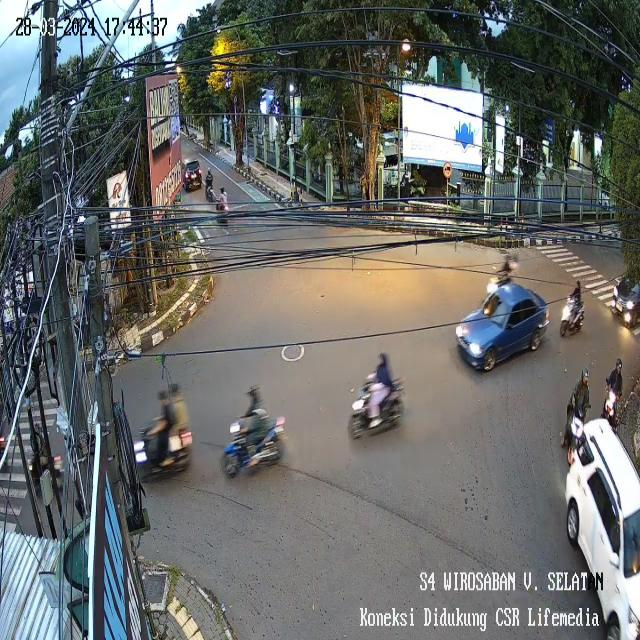car: (562, 409, 640, 639), (451, 277, 553, 385), (607, 244, 640, 343), (180, 153, 204, 199)
motorcycle: (124, 401, 196, 493), (218, 405, 292, 488), (347, 370, 409, 448), (564, 366, 590, 468), (554, 290, 588, 340), (484, 256, 523, 294), (602, 362, 624, 428), (198, 163, 220, 207), (215, 180, 232, 234)
